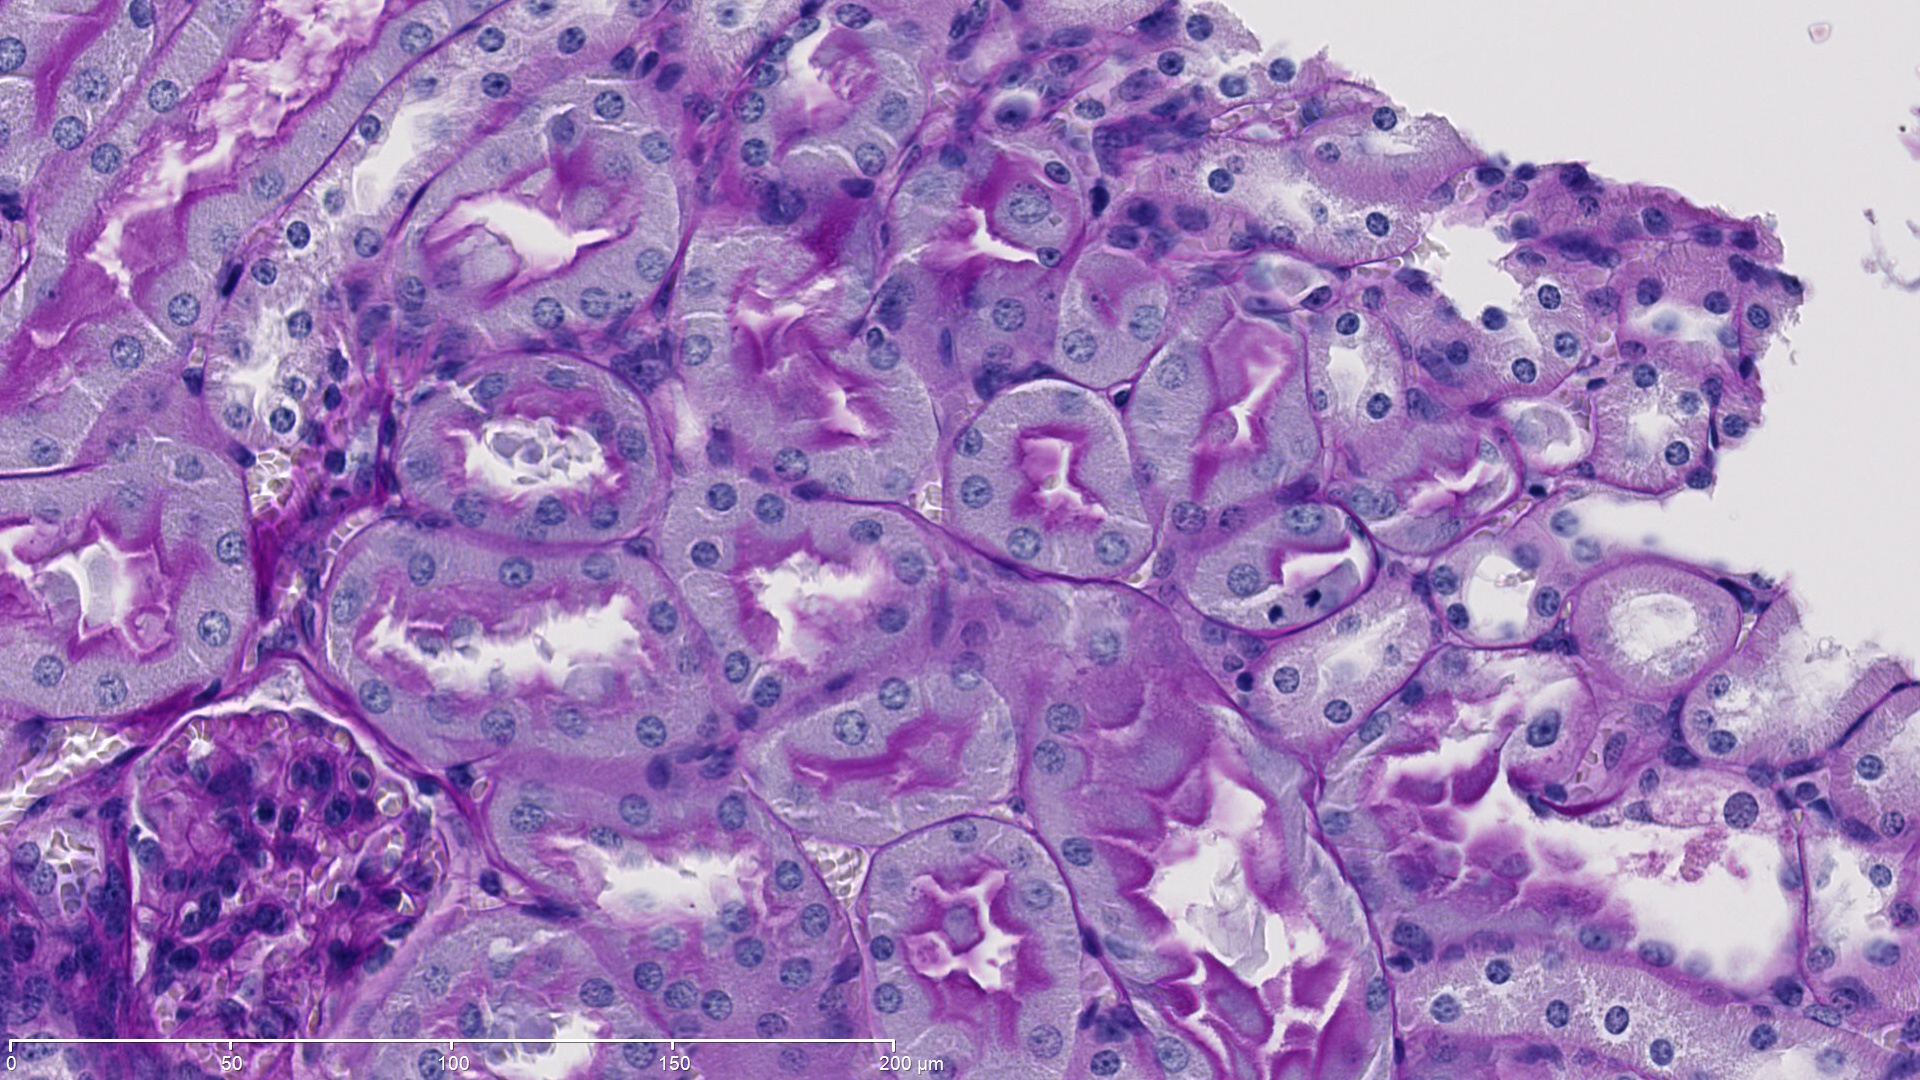Glomeruli: (105, 695, 459, 1040)
